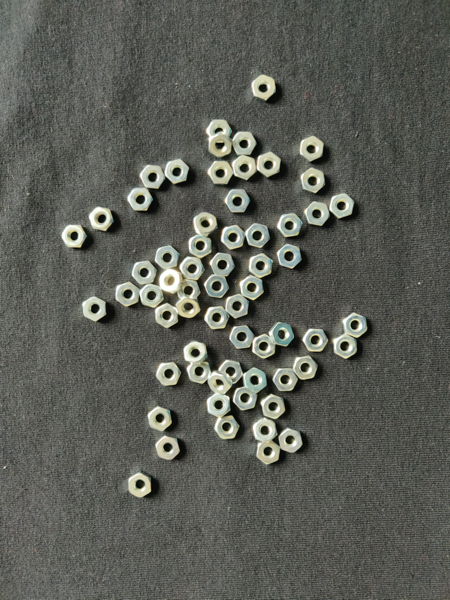nut: (251, 75, 276, 102), (300, 136, 325, 163), (208, 161, 235, 186), (257, 152, 282, 178), (301, 168, 326, 194), (330, 193, 355, 219), (304, 202, 330, 227), (277, 213, 303, 238), (159, 269, 184, 295), (333, 334, 358, 360), (253, 418, 278, 444), (155, 363, 182, 387), (165, 159, 190, 184), (232, 155, 257, 180), (221, 225, 246, 250), (277, 244, 302, 269), (155, 246, 180, 271), (225, 294, 250, 319), (176, 294, 201, 319), (343, 313, 368, 338), (208, 370, 233, 395), (215, 415, 240, 440), (148, 406, 173, 431), (155, 436, 180, 461), (140, 165, 166, 189), (225, 189, 251, 213), (89, 207, 115, 231), (246, 223, 270, 249), (249, 253, 273, 279), (210, 253, 236, 277), (132, 261, 158, 285), (240, 275, 264, 301), (269, 323, 295, 347), (293, 356, 319, 380), (262, 394, 286, 420), (279, 427, 303, 453), (209, 131, 232, 158), (244, 367, 267, 394), (232, 132, 257, 156), (194, 212, 218, 237), (116, 282, 140, 307), (83, 297, 107, 322), (205, 306, 230, 330), (273, 368, 298, 392), (303, 329, 329, 352), (128, 472, 151, 498), (140, 284, 164, 308), (184, 341, 208, 365), (219, 360, 243, 384), (257, 441, 281, 465), (128, 188, 153, 211), (62, 225, 87, 248), (189, 234, 212, 259), (180, 257, 205, 280), (204, 275, 229, 298), (155, 303, 178, 328), (230, 326, 255, 349), (253, 334, 276, 359), (233, 388, 258, 411), (208, 393, 231, 418), (187, 362, 213, 384), (206, 119, 232, 137), (177, 280, 201, 299)
